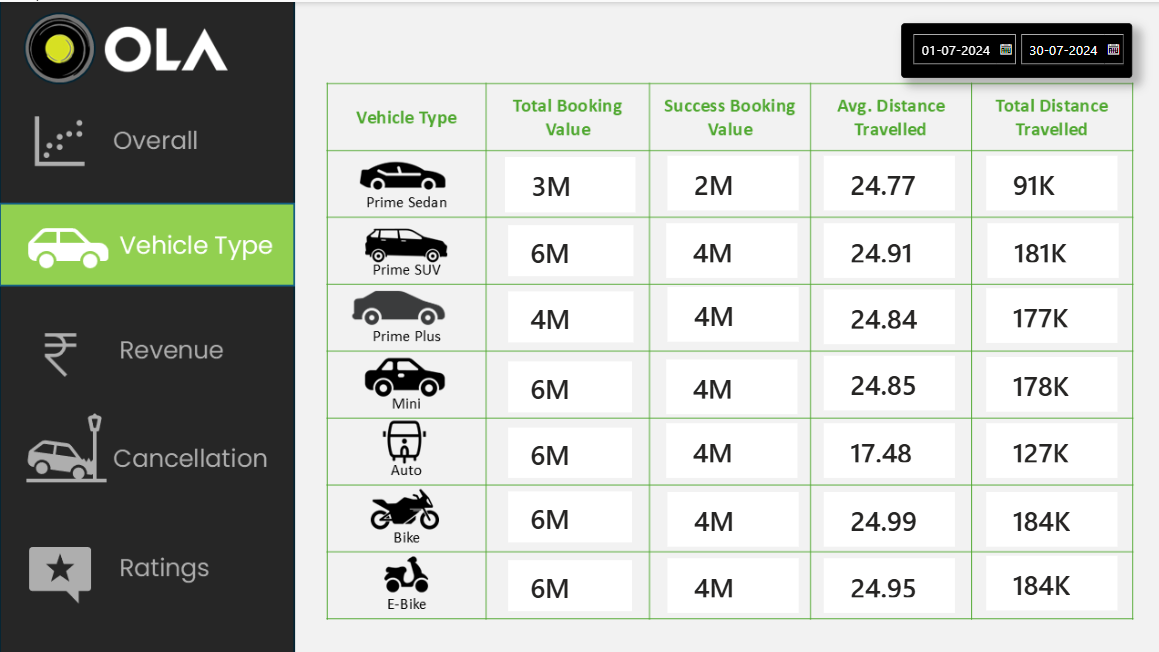

This screenshot's page, from the dashboard's own definition file:
{"tool":"powerbi","page":{"name":"Vehicle  Type","canvas":[1280,720],"ordinal":1},"visuals":[{"type":"actionButton","box":[1,345,323.2,88.3],"z":0},{"type":"actionButton","box":[0,449,323.2,88.3],"z":1000},{"type":"actionButton","box":[1,580.9,323.2,88.3],"z":2000},{"type":"actionButton","box":[1,111.2,323.2,88.3],"z":3000},{"type":"cardVisual","fields":{"Data":["Sum(July.Booking_Value)"]},"box":[554.7,169.8,143,60.5],"z":4000},{"type":"cardVisual","fields":{"Data":["Sum(July.Booking_Value)"]},"box":[552.3,389.5,146.5,66.3],"z":5000},{"type":"cardVisual","fields":{"Data":["Sum(July.Booking_Value)"]},"box":[553,462.4,146.8,65.9],"z":6000},{"type":"cardVisual","fields":{"Data":["Sum(July.Booking_Value)"]},"box":[552.3,532.6,146.5,66.3],"z":7000},{"type":"cardVisual","fields":{"Data":["Sum(July.Booking_Value)"]},"box":[552.3,608.1,146.5,66.3],"z":8000},{"type":"cardVisual","fields":{"Data":["Sum(July.Booking_Value)"]},"box":[552.3,239.5,147.7,66.3],"z":9000},{"type":"cardVisual","fields":{"Data":["Sum(July.Booking_Value)"]},"box":[553.5,312.8,147.7,66.3],"z":10000},{"type":"cardVisual","fields":{"Data":["Sum(July.Booking_Value)"]},"box":[732.8,168.8,144.1,60.4],"z":11000},{"type":"cardVisual","fields":{"Data":["Sum(July.Booking_Value)"]},"box":[731.4,242.9,144.1,60.4],"z":12000},{"type":"cardVisual","fields":{"Data":["Sum(July.Booking_Value)"]},"box":[732.8,312.9,144.1,60.4],"z":13000},{"type":"cardVisual","fields":{"Data":["Sum(July.Booking_Value)"]},"box":[731.4,392.5,144.1,60.4],"z":14000},{"type":"cardVisual","fields":{"Data":["Sum(July.Booking_Value)"]},"box":[731.4,462.4,144.1,60.4],"z":15000},{"type":"cardVisual","fields":{"Data":["Sum(July.Booking_Value)"]},"box":[732.8,537.9,144.1,60.4],"z":16000},{"type":"cardVisual","fields":{"Data":["Sum(July.Booking_Value)"]},"box":[732.8,610.6,144.1,60.4],"z":17000},{"type":"cardVisual","fields":{"Data":["Avg(July.Ride_Distance)"]},"box":[904.3,168.8,144.1,60.4],"z":18000},{"type":"cardVisual","fields":{"Data":["Avg(July.Ride_Distance)"]},"box":[904.3,242.9,144.1,60.4],"z":19000},{"type":"cardVisual","fields":{"Data":["Avg(July.Ride_Distance)"]},"box":[904.3,315.6,144.1,60.4],"z":20000},{"type":"cardVisual","fields":{"Data":["Avg(July.Ride_Distance)"]},"box":[904.3,388.3,144.1,60.4],"z":21000},{"type":"cardVisual","fields":{"Data":["Avg(July.Ride_Distance)"]},"box":[904.3,462.4,144.1,60.4],"z":22000},{"type":"cardVisual","fields":{"Data":["Avg(July.Ride_Distance)"]},"box":[904.3,537.9,144.1,60.4],"z":23000},{"type":"cardVisual","fields":{"Data":["Avg(July.Ride_Distance)"]},"box":[904.3,610.6,144.1,60.4],"z":24000},{"type":"cardVisual","fields":{"Data":["Sum(July.Ride_Distance)"]},"box":[1082.7,168.8,144.1,60.4],"z":25000},{"type":"cardVisual","fields":{"Data":["Sum(July.Ride_Distance)"]},"box":[1084.1,242.9,144.1,60.4],"z":26000},{"type":"cardVisual","fields":{"Data":["Sum(July.Ride_Distance)"]},"box":[1082.7,314.2,144.1,60.4],"z":27000},{"type":"cardVisual","fields":{"Data":["Sum(July.Ride_Distance)"]},"box":[1082.7,389.7,144.1,60.4],"z":28000},{"type":"cardVisual","fields":{"Data":["Sum(July.Ride_Distance)"]},"box":[1082.7,462.4,144.1,60.4],"z":29000},{"type":"cardVisual","fields":{"Data":["Sum(July.Ride_Distance)"]},"box":[1082.7,537.9,144.1,60.4],"z":30000},{"type":"cardVisual","fields":{"Data":["Sum(July.Ride_Distance)"]},"box":[1082.7,607.9,144.1,60.4],"z":31000},{"type":"slicer","title":"Date","fields":{"Values":["July.Date"]},"box":[989.4,23.3,253.9,60.4],"z":32000}]}

Visuals, with their boxes on the page's 1280x720 design canvas (x1, y1, x2, y2). These are canvas units, not pixel positions in the 1159x652 screenshot, which may show the page scaled, cropped or inside an application window:
actionButton: x1=1 y1=345 x2=324 y2=433
actionButton: x1=0 y1=449 x2=323 y2=537
actionButton: x1=1 y1=581 x2=324 y2=669
actionButton: x1=1 y1=111 x2=324 y2=200
cardVisual - Sum(July.Booking_Value): x1=555 y1=170 x2=698 y2=230
cardVisual - Sum(July.Booking_Value): x1=552 y1=390 x2=699 y2=456
cardVisual - Sum(July.Booking_Value): x1=553 y1=462 x2=700 y2=528
cardVisual - Sum(July.Booking_Value): x1=552 y1=533 x2=699 y2=599
cardVisual - Sum(July.Booking_Value): x1=552 y1=608 x2=699 y2=674
cardVisual - Sum(July.Booking_Value): x1=552 y1=240 x2=700 y2=306
cardVisual - Sum(July.Booking_Value): x1=554 y1=313 x2=701 y2=379
cardVisual - Sum(July.Booking_Value): x1=733 y1=169 x2=877 y2=229
cardVisual - Sum(July.Booking_Value): x1=731 y1=243 x2=876 y2=303
cardVisual - Sum(July.Booking_Value): x1=733 y1=313 x2=877 y2=373
cardVisual - Sum(July.Booking_Value): x1=731 y1=392 x2=876 y2=453
cardVisual - Sum(July.Booking_Value): x1=731 y1=462 x2=876 y2=523
cardVisual - Sum(July.Booking_Value): x1=733 y1=538 x2=877 y2=598
cardVisual - Sum(July.Booking_Value): x1=733 y1=611 x2=877 y2=671
cardVisual - Avg(July.Ride_Distance): x1=904 y1=169 x2=1048 y2=229
cardVisual - Avg(July.Ride_Distance): x1=904 y1=243 x2=1048 y2=303
cardVisual - Avg(July.Ride_Distance): x1=904 y1=316 x2=1048 y2=376
cardVisual - Avg(July.Ride_Distance): x1=904 y1=388 x2=1048 y2=449
cardVisual - Avg(July.Ride_Distance): x1=904 y1=462 x2=1048 y2=523
cardVisual - Avg(July.Ride_Distance): x1=904 y1=538 x2=1048 y2=598
cardVisual - Avg(July.Ride_Distance): x1=904 y1=611 x2=1048 y2=671
cardVisual - Sum(July.Ride_Distance): x1=1083 y1=169 x2=1227 y2=229
cardVisual - Sum(July.Ride_Distance): x1=1084 y1=243 x2=1228 y2=303
cardVisual - Sum(July.Ride_Distance): x1=1083 y1=314 x2=1227 y2=375
cardVisual - Sum(July.Ride_Distance): x1=1083 y1=390 x2=1227 y2=450
cardVisual - Sum(July.Ride_Distance): x1=1083 y1=462 x2=1227 y2=523
cardVisual - Sum(July.Ride_Distance): x1=1083 y1=538 x2=1227 y2=598
cardVisual - Sum(July.Ride_Distance): x1=1083 y1=608 x2=1227 y2=668
"Date" slicer: x1=989 y1=23 x2=1243 y2=84
